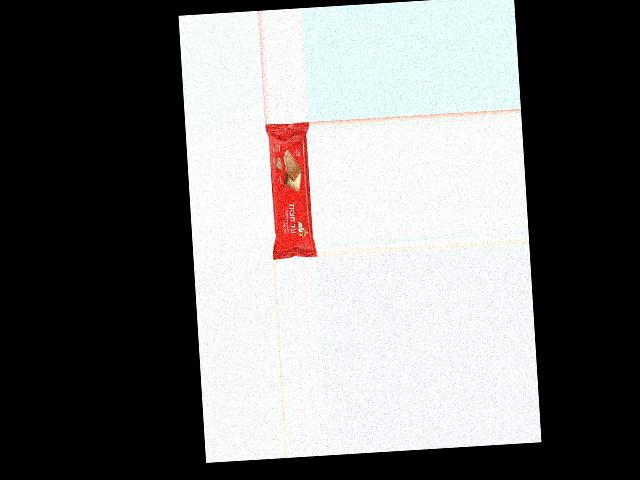chocolate: (263, 123, 316, 256)
